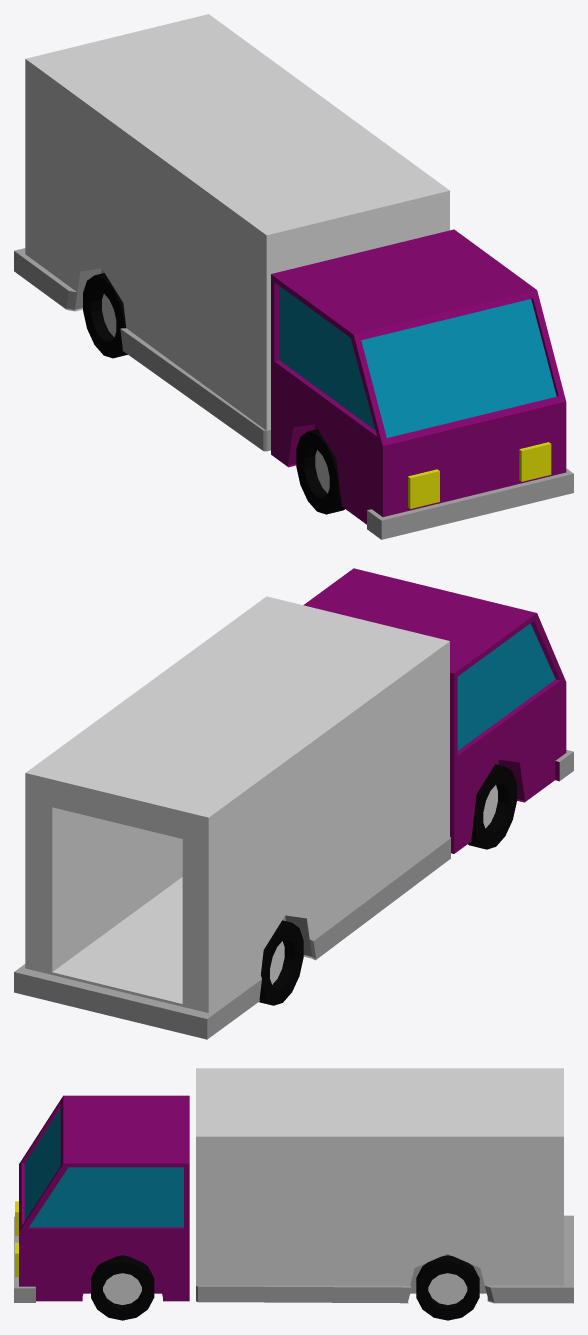
File: camion_mauve.fbx
The picture shows the model from 3 angles, top to bottom: view 1: azimuth 30°, elevation 25°; view 2: azimuth 150°, elevation 25°; view 3: azimuth 270°, elevation 25°; orthographic projection. The views are drawn at different scales.
Visible parts, largest first — view 1: camion_mauve; view 2: camion_mauve; view 3: camion_mauve.
Boxes of the visible parts, x1=… form: camion_mauve: x1=14, y1=14, x2=573, y2=539; camion_mauve: x1=14, y1=568, x2=573, y2=1039; camion_mauve: x1=14, y1=1068, x2=573, y2=1320.
Size of the model in its own units: 6.55 by 7.82 by 21.57.
